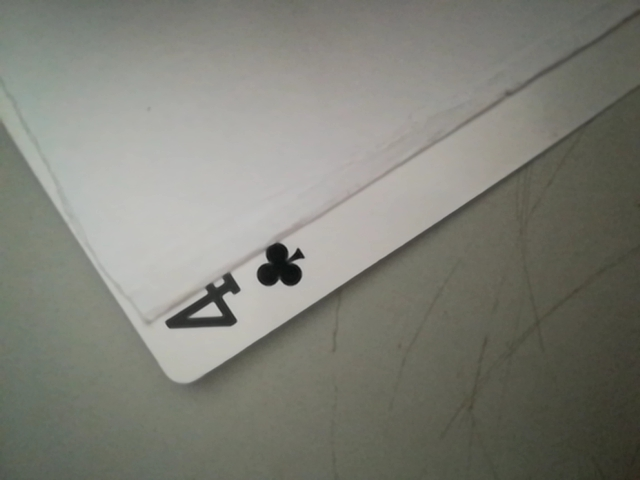mh 4: (149, 232, 320, 353)
